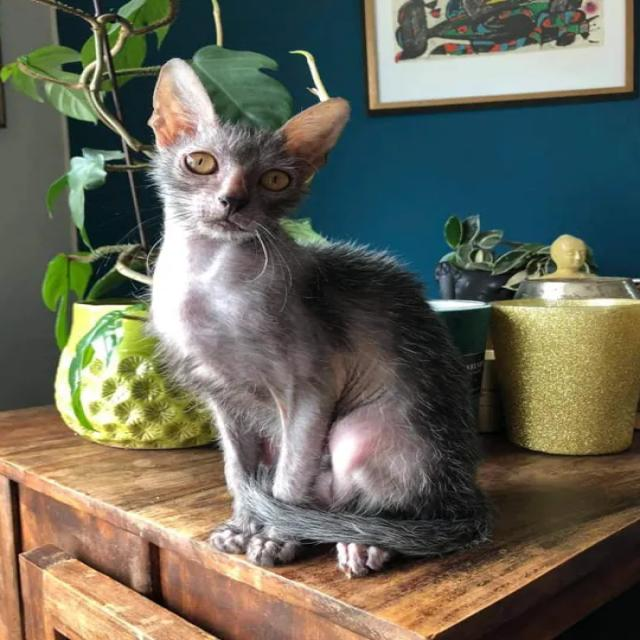Lykoi: (141, 51, 498, 581)
